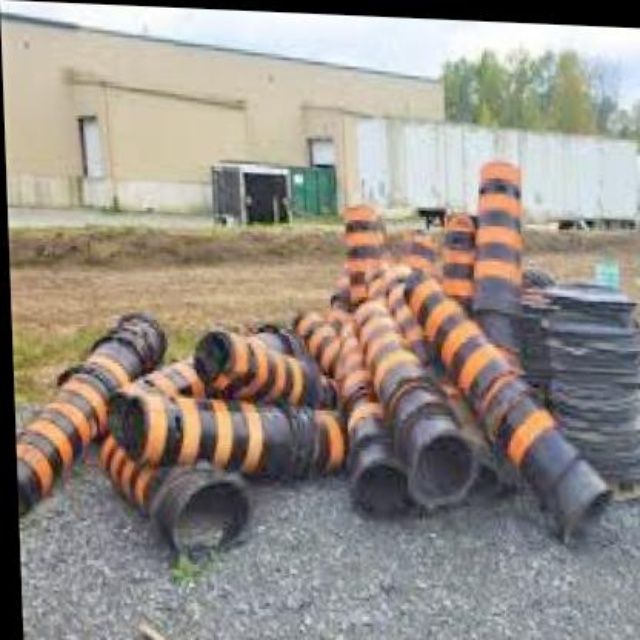obstacle: (458, 147, 529, 313)
